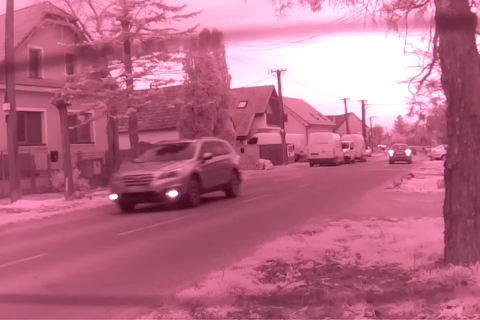car: (107, 137, 247, 207), (384, 142, 416, 165)
